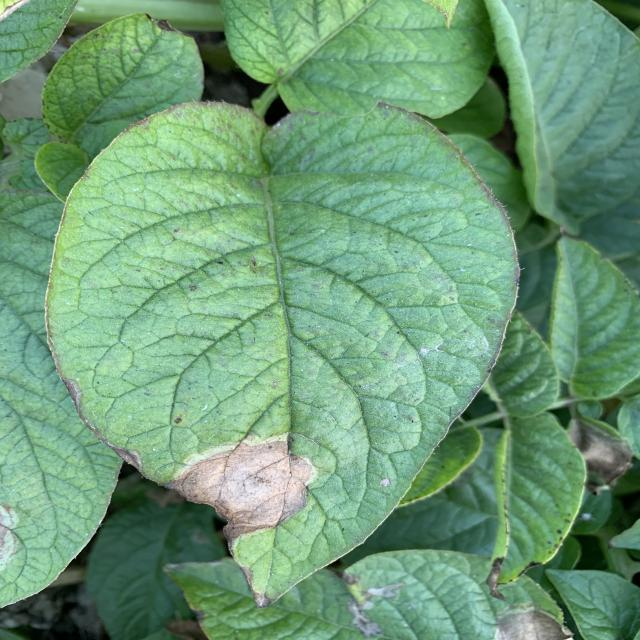lateblight: (170, 436, 313, 541)
